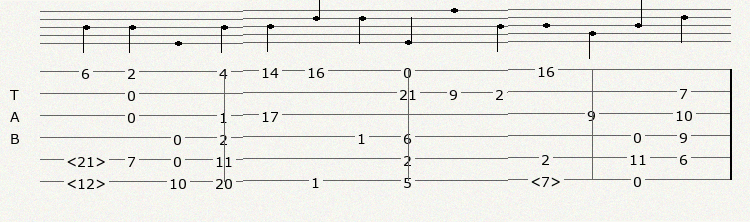0: (127, 85, 140, 99), (127, 107, 140, 121), (173, 129, 186, 143), (173, 151, 186, 165), (403, 63, 416, 77), (633, 173, 646, 187), (633, 129, 646, 143)
1: (219, 107, 232, 121), (311, 173, 324, 187), (357, 129, 370, 143)
10: (169, 173, 191, 187), (675, 107, 697, 121)
11: (215, 151, 237, 165), (629, 151, 651, 165)
14: (261, 63, 283, 77)
16: (307, 63, 329, 77), (537, 63, 559, 77)
17: (261, 107, 283, 121)
2: (127, 63, 140, 77), (219, 129, 232, 143), (403, 151, 416, 165), (495, 85, 508, 99), (541, 151, 554, 165)
20: (215, 173, 237, 187)
21: (399, 85, 421, 99)
4: (219, 63, 232, 77)
5: (403, 173, 416, 187)
6: (81, 63, 94, 77), (403, 129, 416, 143), (679, 151, 692, 165)
7: (127, 151, 140, 165), (679, 85, 692, 99)
9: (449, 85, 462, 99), (587, 107, 600, 121), (679, 129, 692, 143)
harmonic: (66, 173, 110, 187), (66, 151, 110, 165), (530, 173, 565, 187)
